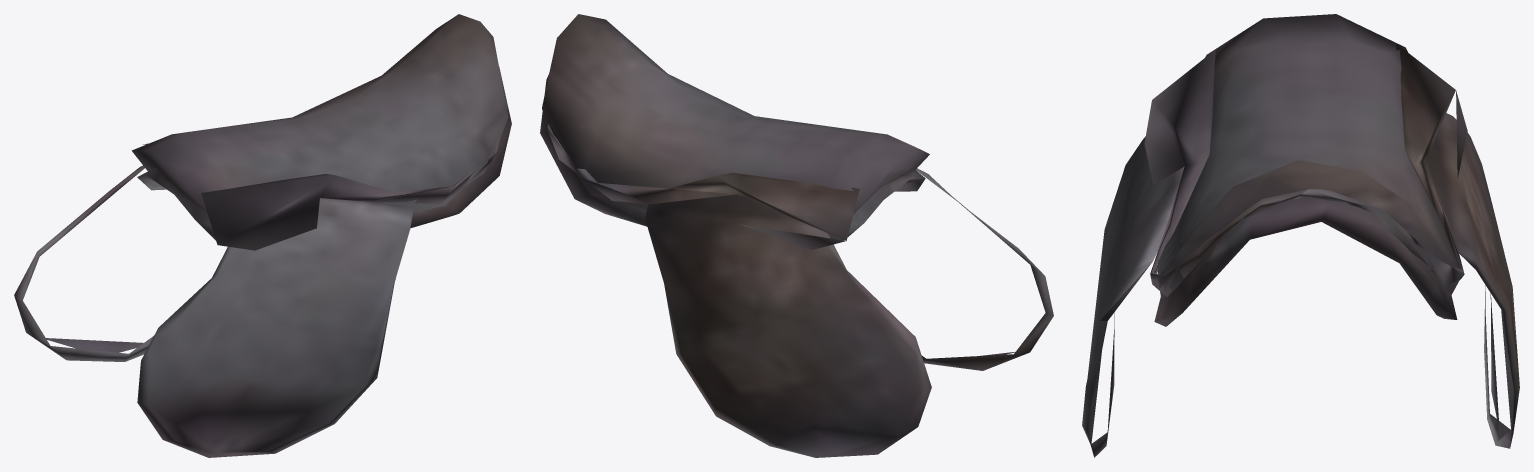
Rendered from saddle.glb.
3 renders of one model, left to right at view 1: azimuth 30°, elevation 25°; view 2: azimuth 150°, elevation 25°; view 3: azimuth 270°, elevation 25°, orthographic. The views are drawn at different scales.
Parts seen in each view (by area): view 1: saddle; view 2: saddle; view 3: saddle.
Boxes of the visible parts, left/top/right/bottom form: saddle: left=14, top=14, right=511, bottom=457; saddle: left=540, top=14, right=1053, bottom=457; saddle: left=1082, top=14, right=1519, bottom=457.
Size of the model in its own units: 24.68 by 18.31 by 15.
Materials: 1 (1 with a texture image).
